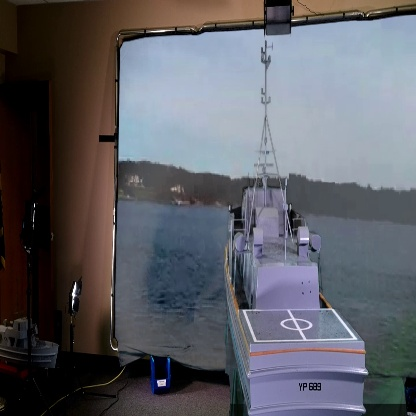YP689: (223, 39, 372, 416)
